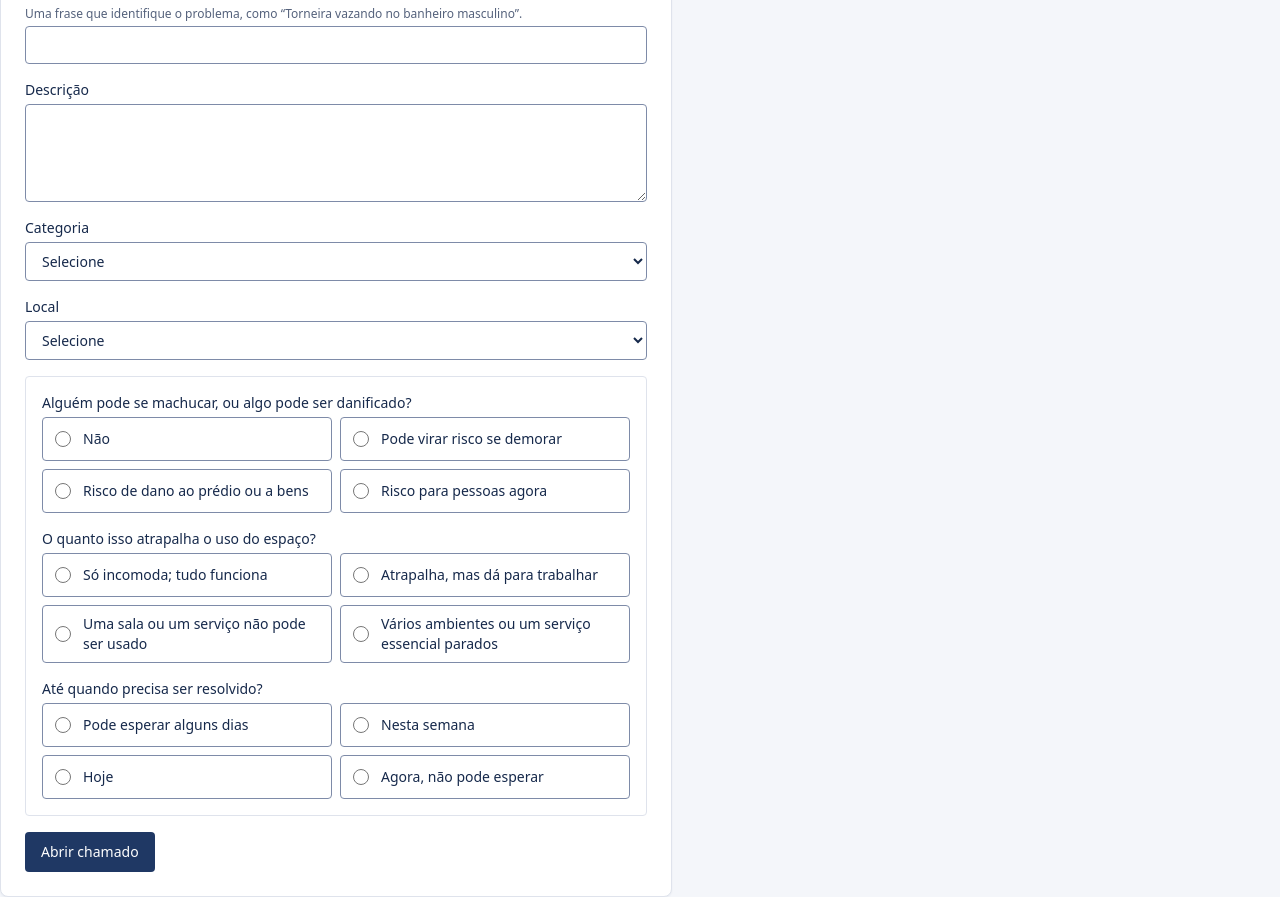
Test case: Situação do chamado (urgência, impacto e risco) › trocar a resposta de uma pergunta mantém uma opção só marcada nela
(page scrolled)
Step 1. Click the radio button labelled "Hoje" → (63,777), box [55,769,71,785]
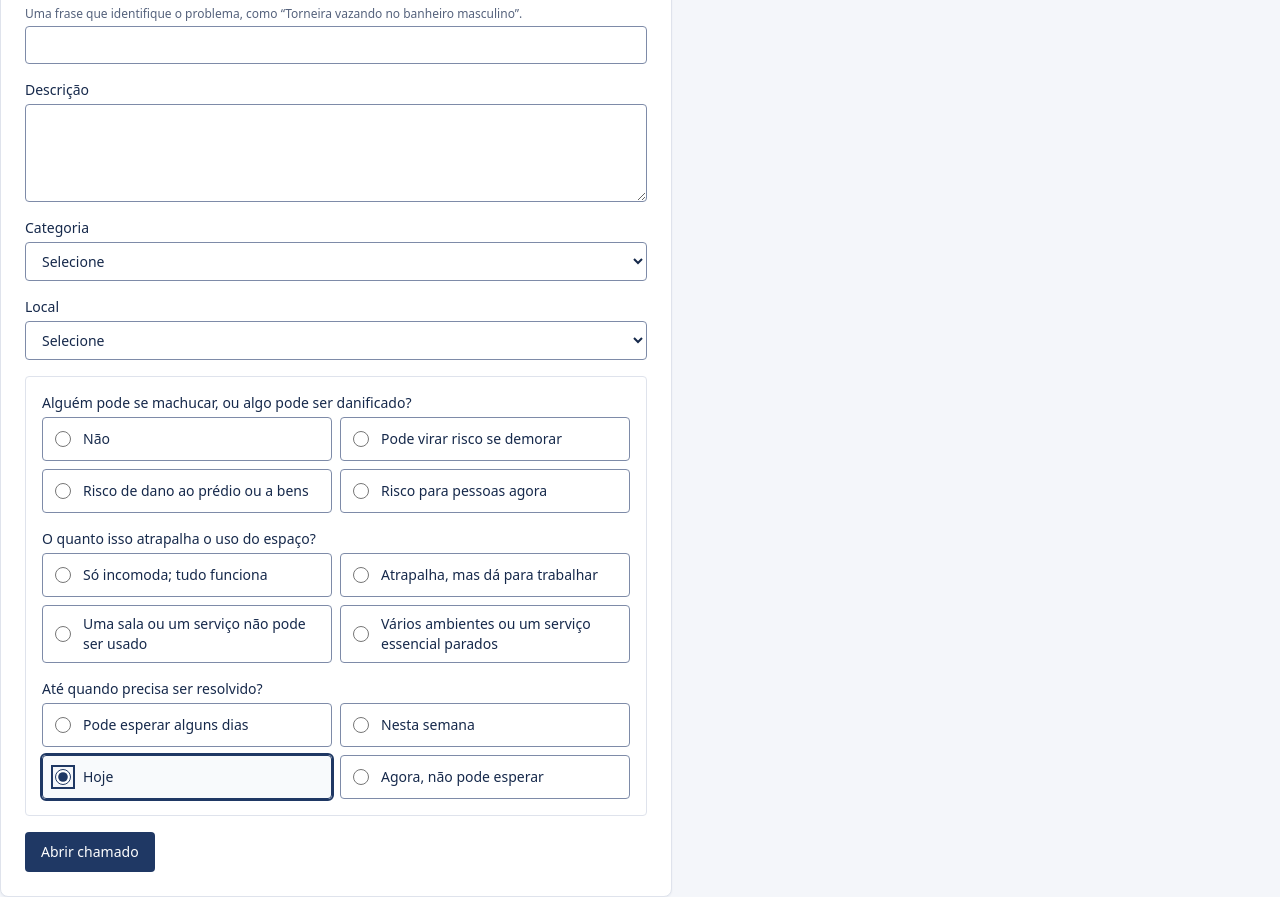
Step 2. Click the radio button labelled "Nesta semana" → (361,725), box [353,717,369,733]
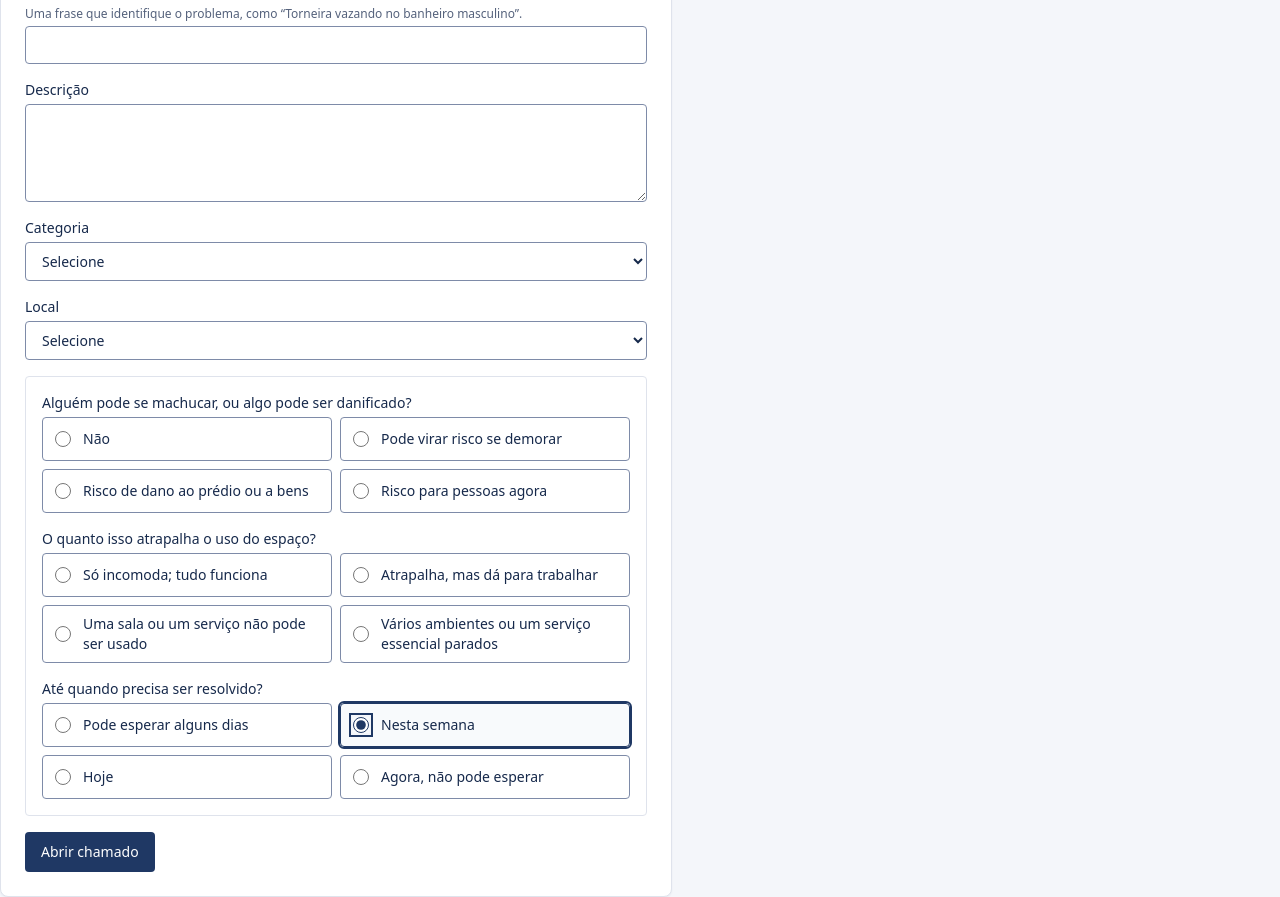
Now the radio button labelled "Nesta semana" is checked, box [353,717,369,733]
Now the radio button labelled "Hoje" is not checked, box [55,769,71,785]
